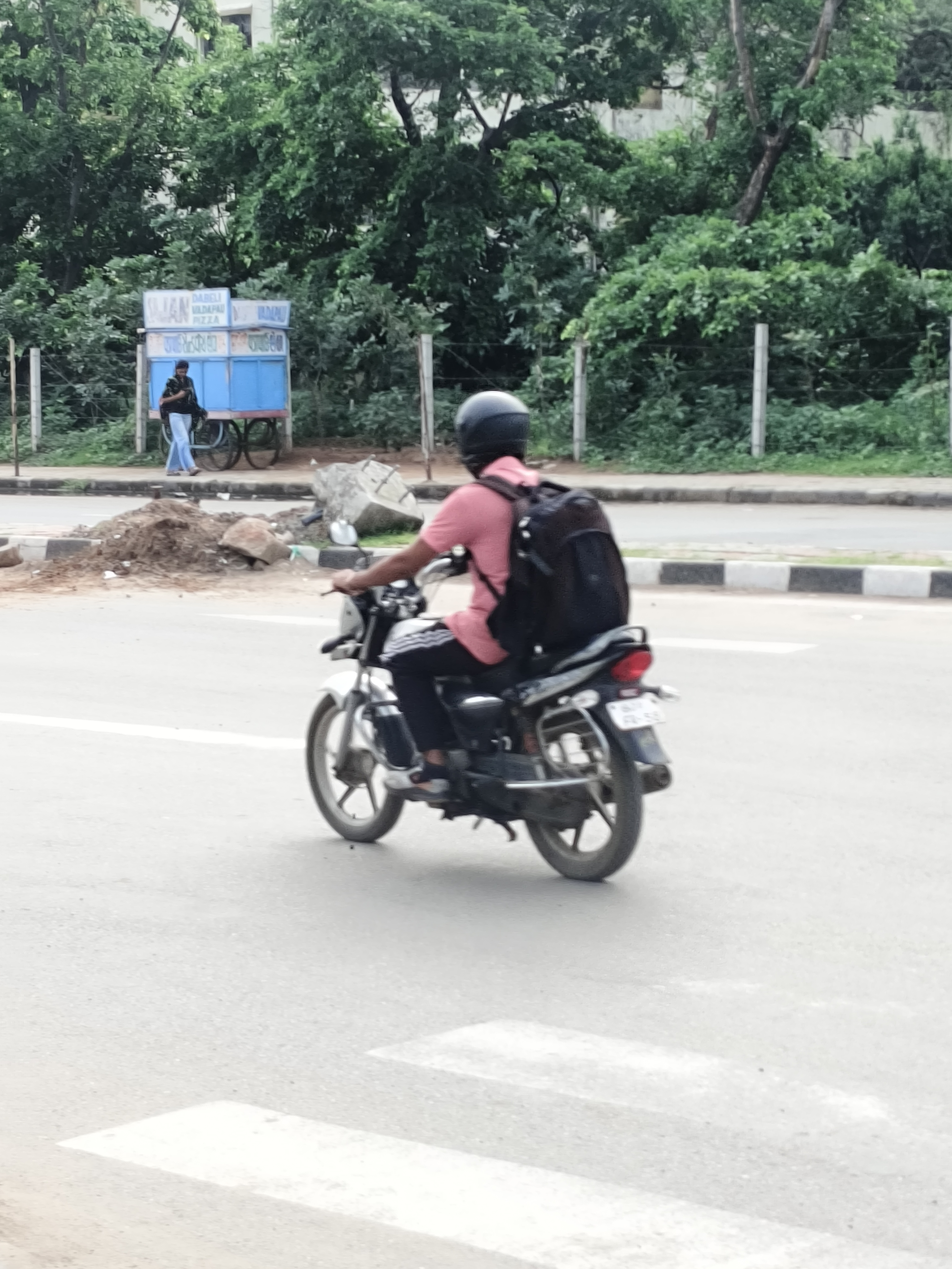BikeWithRider: (298, 386, 677, 883)
Helmet: (449, 386, 540, 477)
